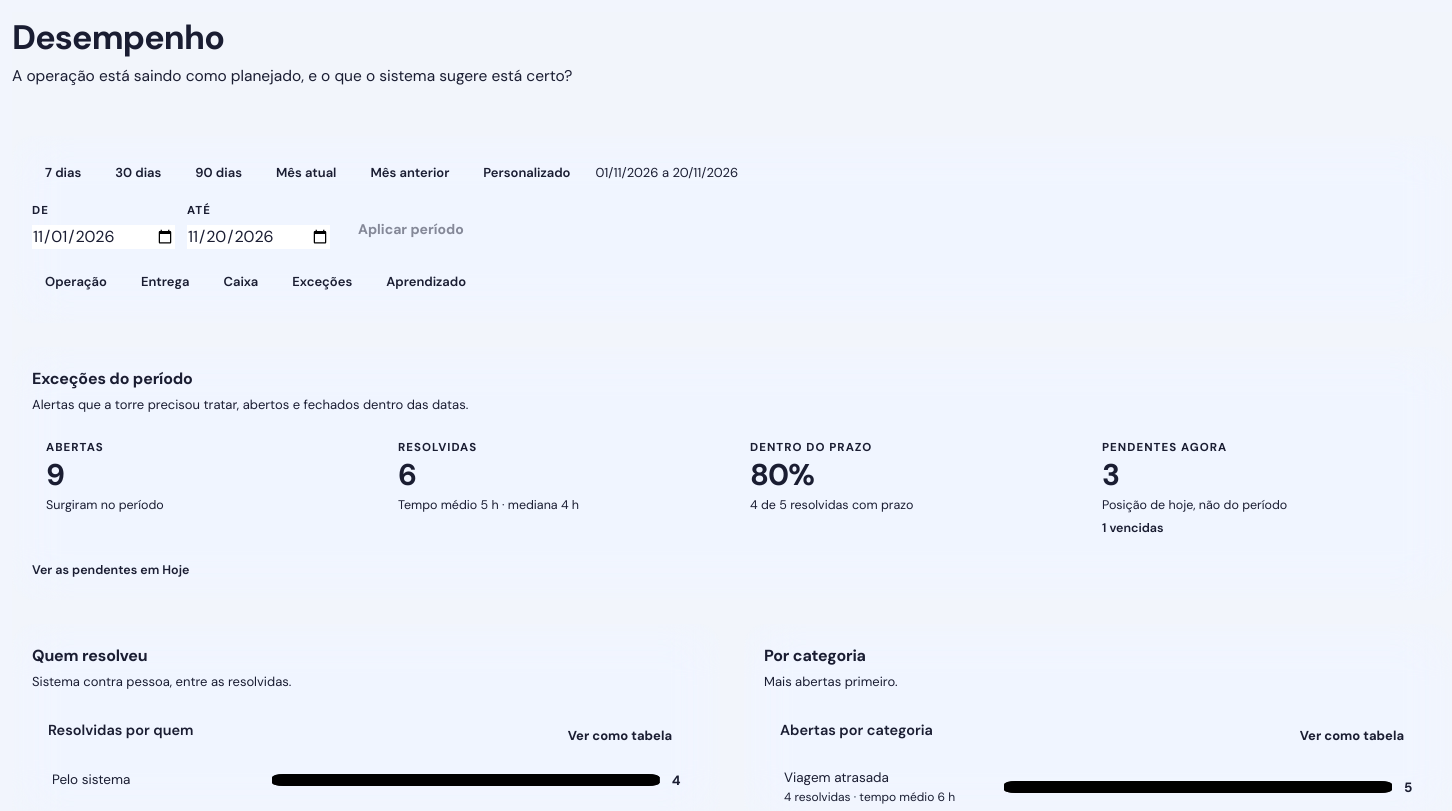
Test: Desempenho › Exceções e Aprendizado, com troca de aba pela tela
Check: the heading "Exceções do período" is shown, box [32, 367, 193, 391]
Check: the text "Viagem atrasada" is shown, box [784, 769, 889, 786]
Click the tab "Aprendizado". click: (426, 282)
box: [373, 265, 479, 299]
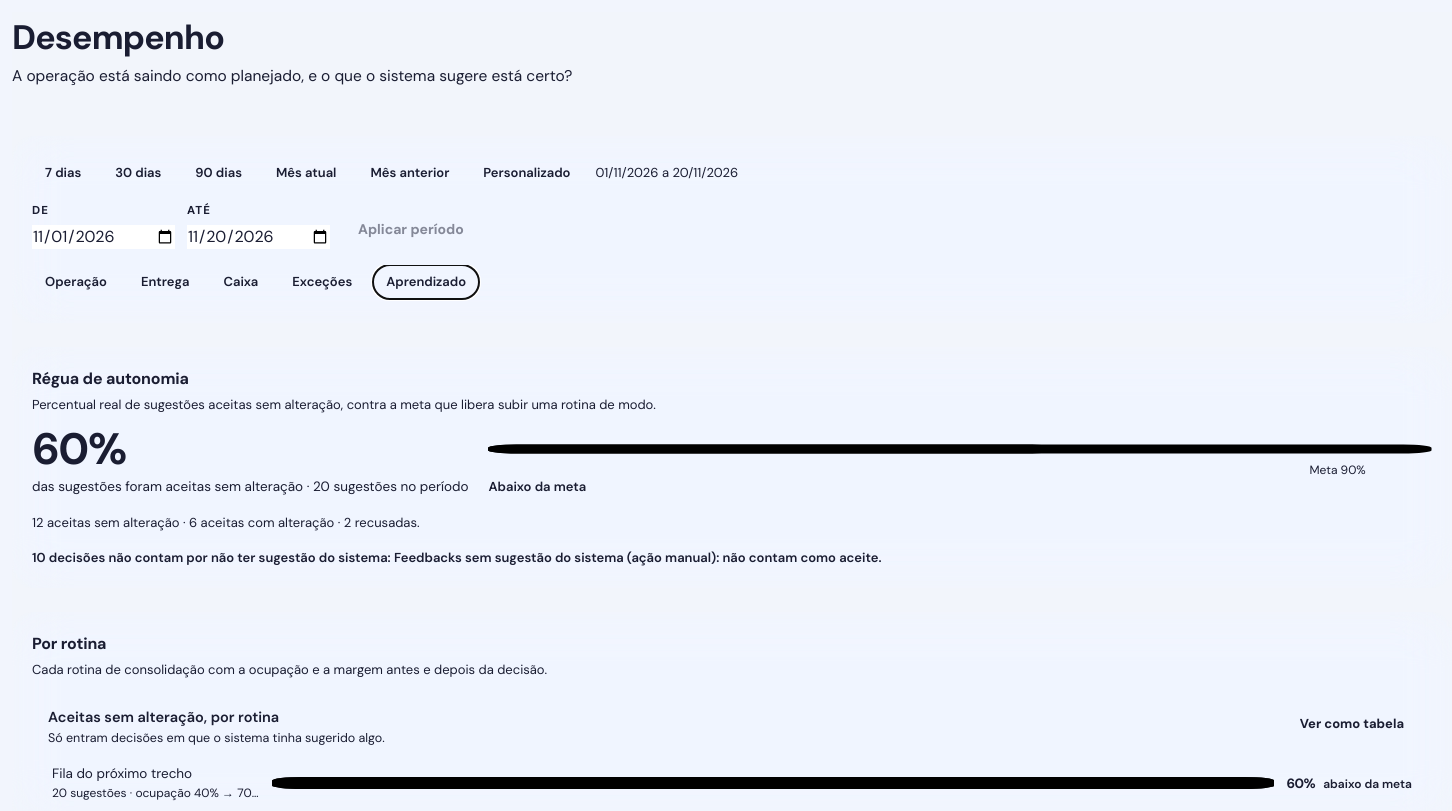
Check: the text "Abaixo da meta" is shown, box [488, 478, 586, 496]
Check: the text "Meta 90%" is shown, box [1310, 462, 1366, 480]
Check: the text "10 decisões não contam" is shown, box [32, 550, 183, 566]
